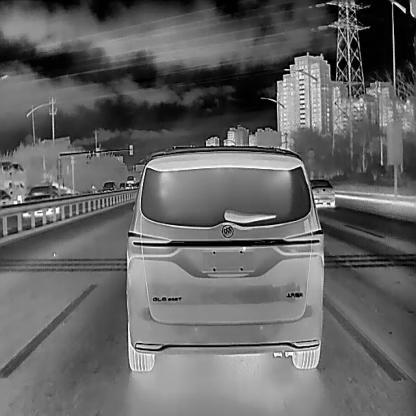car: (124, 144, 324, 371), (0, 158, 25, 205), (23, 184, 60, 215), (309, 177, 335, 207), (101, 179, 116, 191)
